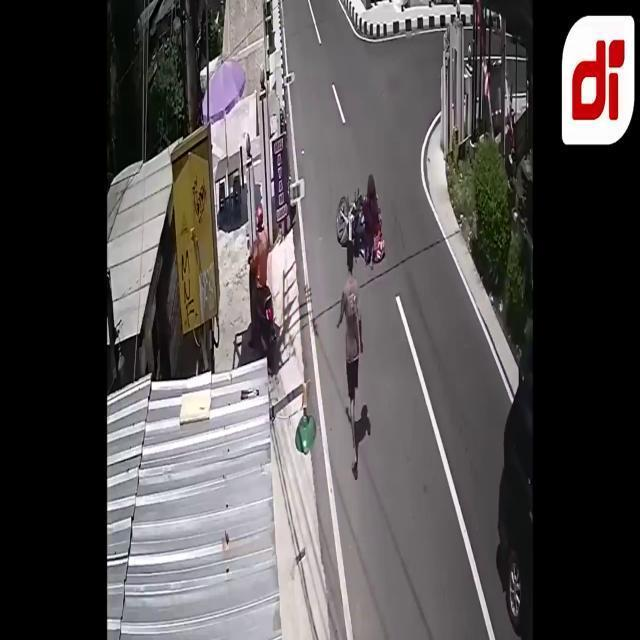accident: (334, 170, 388, 272)
